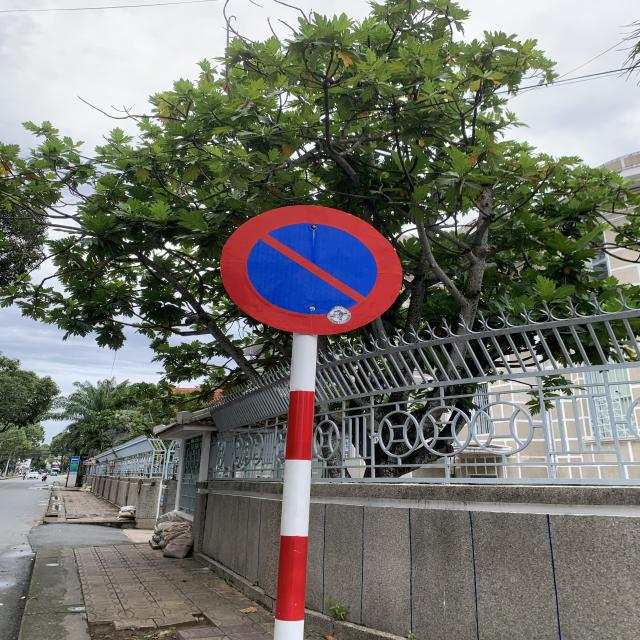Cam_Dau_Xe: (214, 204, 406, 334)
